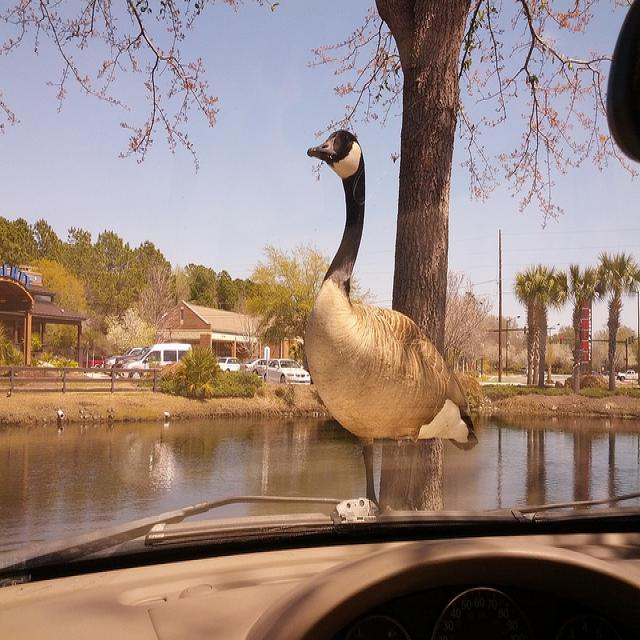Vehicle: (120, 342, 191, 370), (112, 345, 150, 375), (266, 360, 312, 384), (102, 353, 124, 375), (245, 359, 267, 377), (81, 354, 104, 368), (220, 358, 241, 371), (617, 370, 638, 382)
